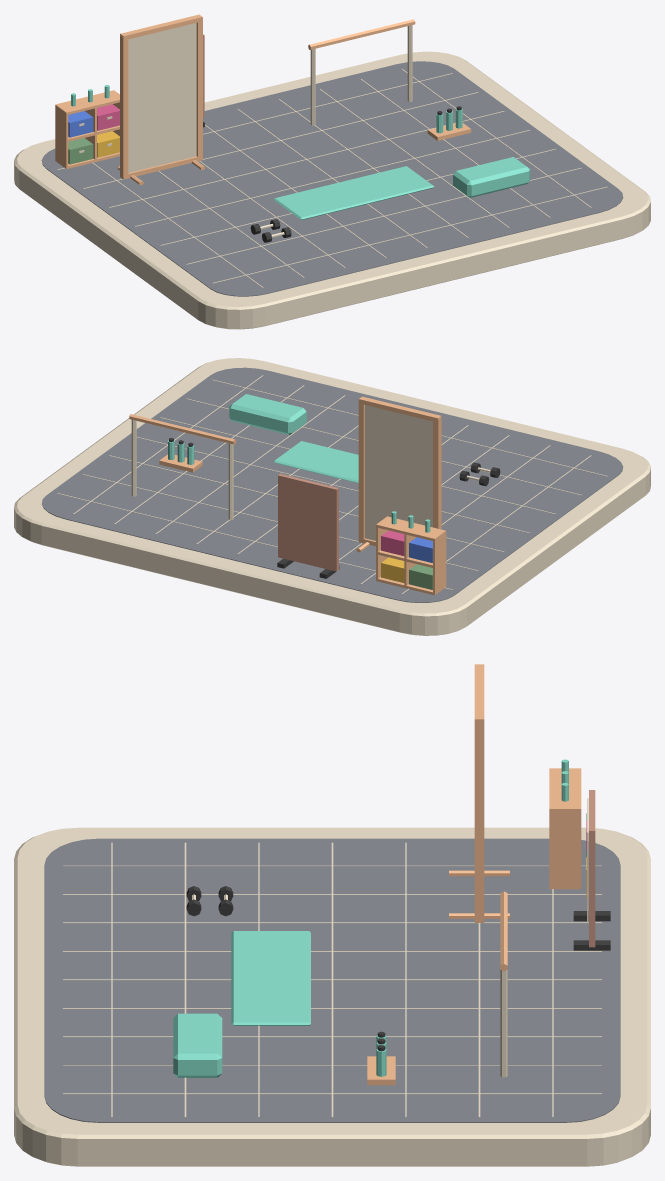
The picture shows the model from 3 angles, top to bottom: view 1: azimuth 30°, elevation 25°; view 2: azimuth 150°, elevation 25°; view 3: azimuth 270°, elevation 25°; orthographic projection. The views are drawn at different scales.
Visible parts, largest first — view 1: COM-02 Floor Surface, COM-01 Rounded Base Direct, Mirror face, Exercise mat, Step, Frame, Frame.001, Cubbies divider, Cubbies shelf.002, Bar, Frame.003, Storage bin (+9 smaller); view 2: COM-02 Floor Surface, COM-01 Rounded Base Direct, Mirror face, Panel, Step, Exercise mat, Frame, Frame.001, Cubbies divider, Cubbies shelf.002, Bar, Frame.003 (+8 smaller); view 3: COM-02 Floor Surface, COM-01 Rounded Base Direct, Exercise mat, Step, Cubbies divider.002, Frame.001, Cubbies shelf.002, Panel, Grout X.008, Grout X.002, Grout X, Grout X.006 (+3 smaller).
Part boxes in pixels (x1=…): COM-02 Floor Surface: x1=41, y1=61, x2=623, y2=296; COM-01 Rounded Base Direct: x1=14, y1=51, x2=650, y2=329; Mirror face: x1=128, y1=23, x2=196, y2=172; Exercise mat: x1=274, y1=166, x2=434, y2=219; Step: x1=453, y1=157, x2=530, y2=197; Frame: x1=120, y1=35, x2=128, y2=177; Frame.001: x1=196, y1=18, x2=202, y2=159; Cubbies divider: x1=55, y1=105, x2=68, y2=168; Cubbies shelf.002: x1=55, y1=90, x2=119, y2=114; Bar: x1=308, y1=19, x2=415, y2=49; Frame.003: x1=120, y1=14, x2=202, y2=39; Storage bin: x1=68, y1=138, x2=93, y2=164; COM-02 Floor Surface: x1=42, y1=367, x2=623, y2=602; COM-01 Rounded Base Direct: x1=14, y1=358, x2=650, y2=635; Mirror face: x1=365, y1=405, x2=432, y2=540; Panel: x1=278, y1=473, x2=338, y2=571; Step: x1=229, y1=394, x2=306, y2=434; Exercise mat: x1=274, y1=441, x2=358, y2=483; Frame: x1=433, y1=417, x2=441, y2=529; Frame.001: x1=358, y1=400, x2=364, y2=540; Cubbies divider: x1=433, y1=531, x2=446, y2=595; Cubbies shelf.002: x1=376, y1=516, x2=445, y2=540; Bar: x1=129, y1=414, x2=236, y2=444; Frame.003: x1=358, y1=396, x2=441, y2=421; COM-02 Floor Surface: x1=44, y1=838, x2=620, y2=1122; COM-01 Rounded Base Direct: x1=14, y1=827, x2=650, y2=1166; Exercise mat: x1=231, y1=931, x2=310, y2=1025; Step: x1=173, y1=1013, x2=222, y2=1077; Cubbies divider.002: x1=549, y1=809, x2=581, y2=889; Frame.001: x1=474, y1=721, x2=484, y2=921; Cubbies shelf.002: x1=549, y1=768, x2=581, y2=809; Panel: x1=589, y1=790, x2=595, y2=947; Grout X.008: x1=63, y1=1093, x2=601, y2=1094; Grout X.002: x1=63, y1=922, x2=601, y2=923; Grout X: x1=63, y1=865, x2=601, y2=866; Grout X.006: x1=63, y1=1036, x2=601, y2=1037.
Bounding box in the file's own units: 6 × 2.15 × 5.2.
Materials: 1 (1 with a texture image).
